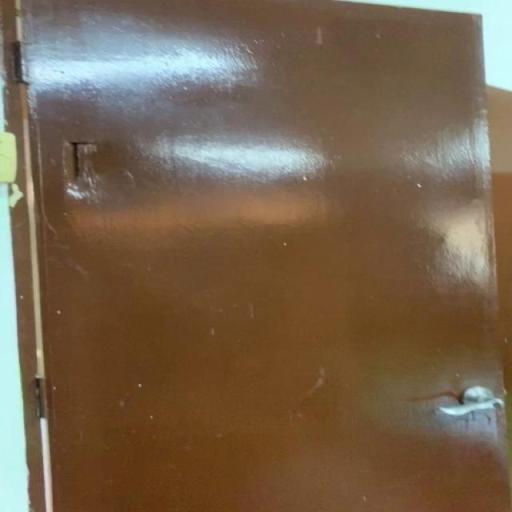door: (5, 0, 509, 510)
